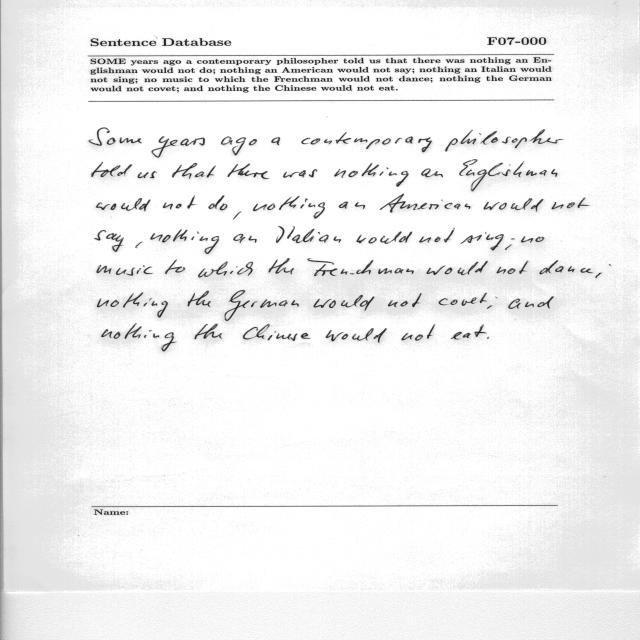word: (460, 160, 558, 192), (445, 129, 563, 152), (301, 132, 432, 152), (224, 290, 299, 321), (102, 324, 177, 352), (307, 258, 414, 276), (97, 292, 168, 318), (334, 163, 409, 187), (380, 194, 470, 213), (253, 196, 325, 219), (150, 230, 219, 254), (152, 136, 205, 158), (243, 324, 310, 341), (276, 226, 341, 243), (314, 295, 375, 311), (89, 128, 142, 146), (326, 328, 387, 343), (198, 262, 253, 278), (427, 261, 488, 275), (484, 198, 543, 212), (539, 260, 593, 275), (461, 232, 504, 250), (357, 231, 413, 244), (97, 198, 151, 211), (172, 163, 215, 179), (221, 137, 257, 156), (94, 230, 124, 252), (228, 163, 269, 179), (439, 293, 487, 306), (97, 265, 153, 276), (92, 162, 132, 177), (508, 296, 554, 309), (401, 325, 435, 341), (419, 228, 455, 243), (451, 325, 486, 340), (388, 293, 422, 307), (163, 196, 196, 210), (552, 198, 589, 210), (194, 324, 222, 339), (497, 261, 529, 274), (269, 259, 294, 275), (188, 291, 211, 307), (284, 169, 318, 178), (165, 259, 185, 274), (209, 196, 228, 211), (595, 264, 611, 278), (233, 234, 257, 243), (421, 169, 443, 178), (339, 202, 365, 209), (521, 236, 544, 243), (138, 171, 157, 178), (487, 297, 497, 309), (505, 238, 514, 250), (271, 137, 280, 145), (233, 212, 241, 220), (135, 242, 143, 248), (487, 337, 489, 339)
